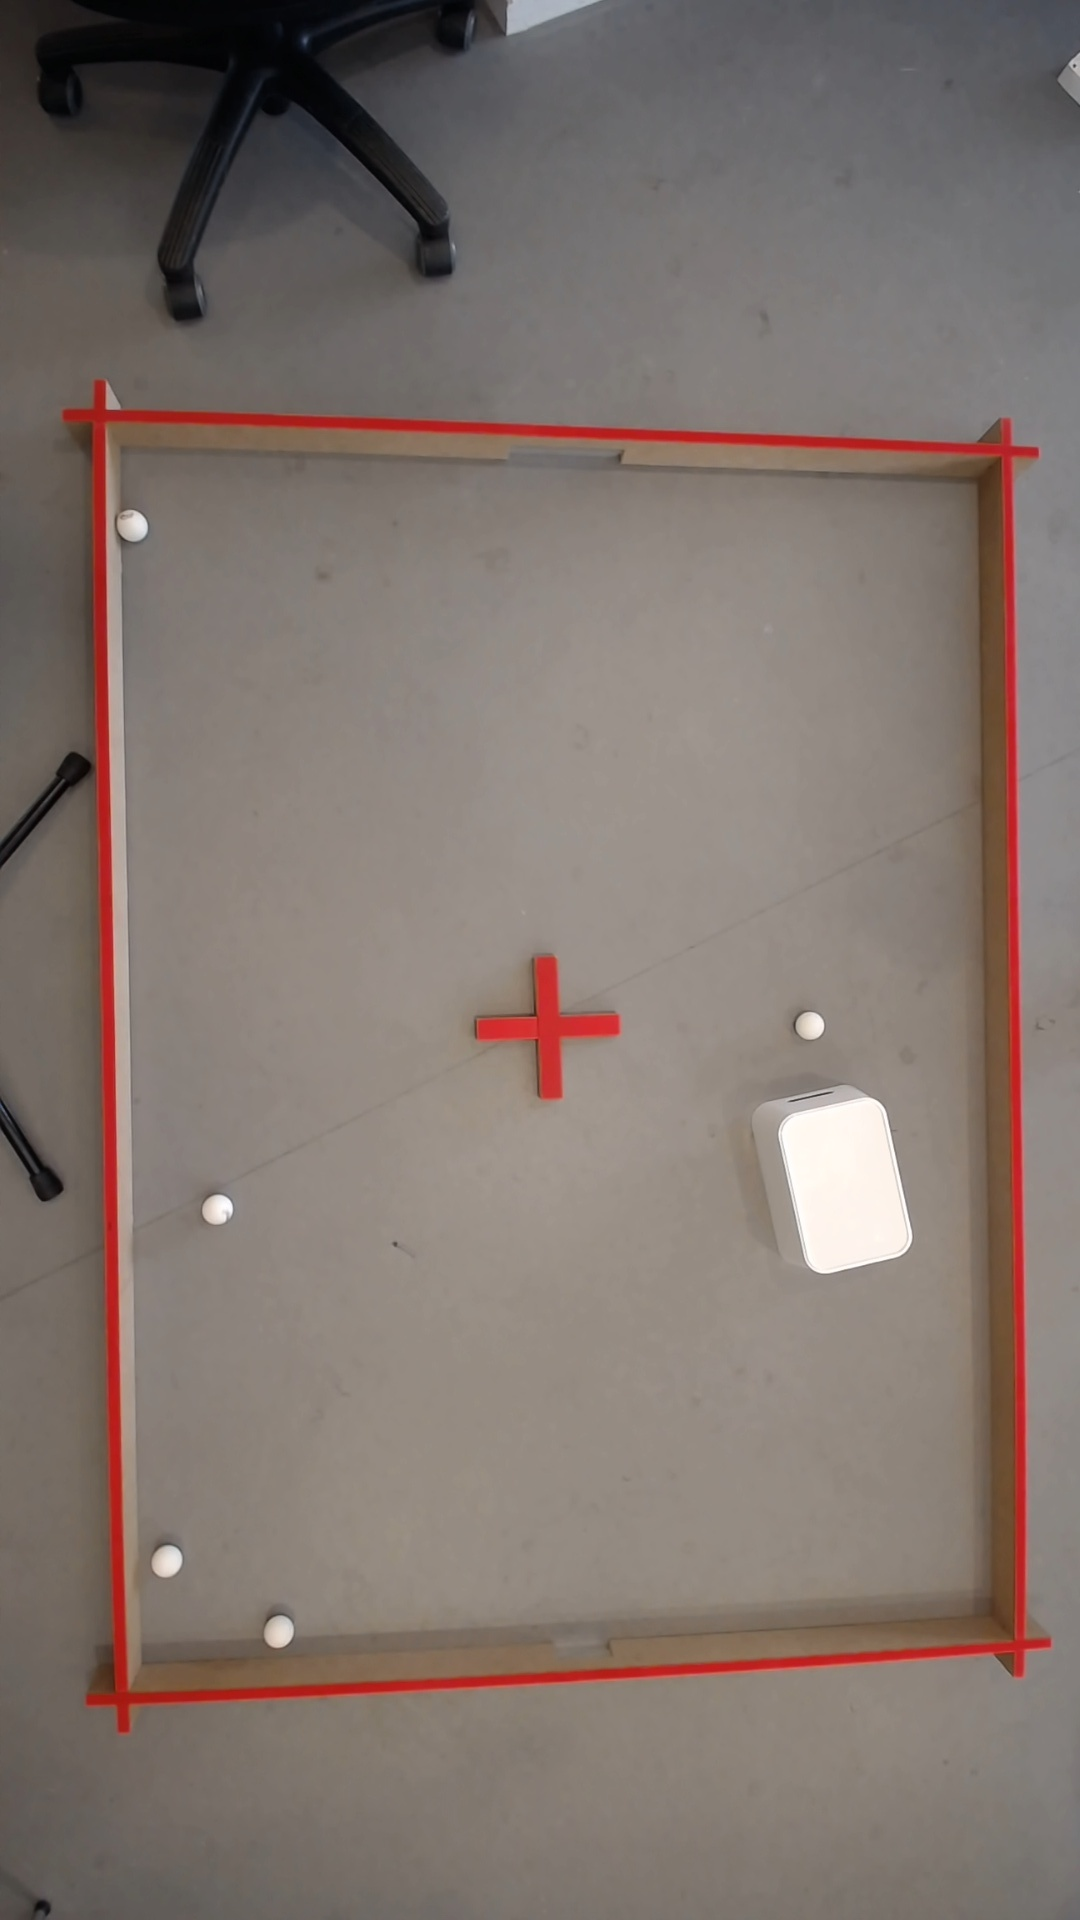balls: (150, 1542, 186, 1580), (202, 1191, 237, 1228), (262, 1615, 298, 1648), (119, 509, 152, 542)
car: (798, 1009, 828, 1040)
